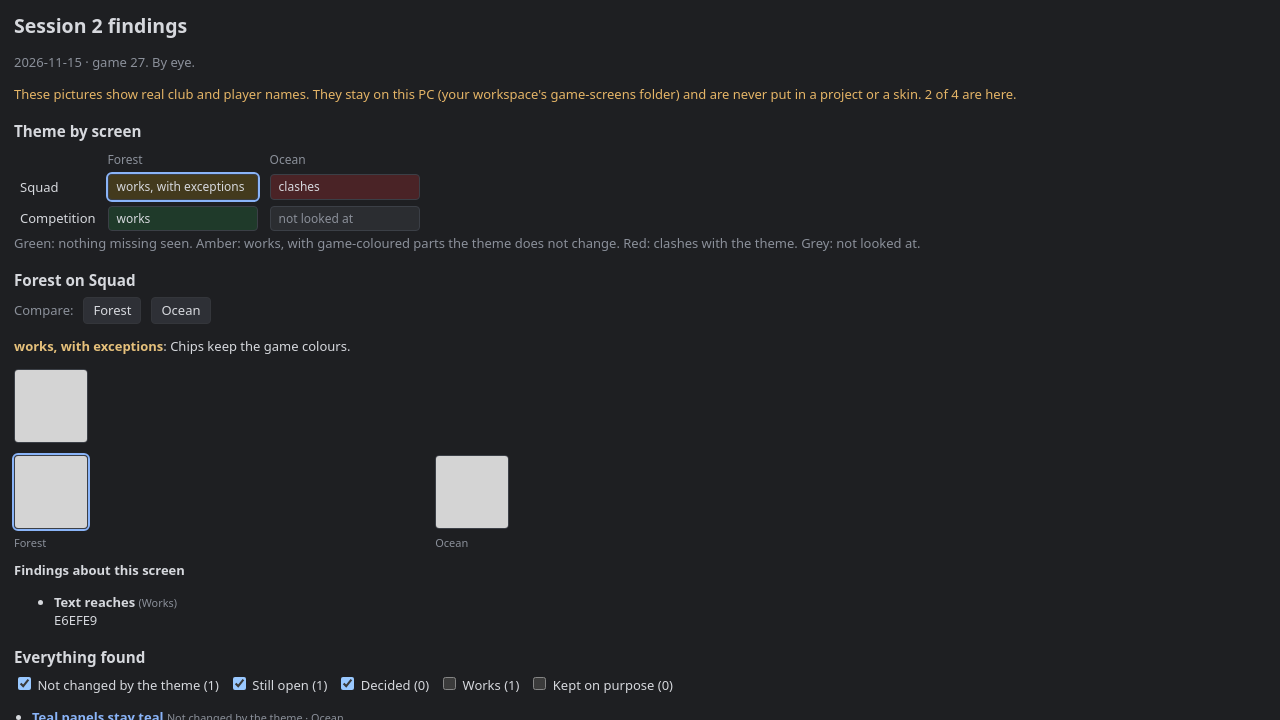
Test: Findings › the list of everything found can be filtered by kind, and a finding opens its screen
Expected: the heading "Session 2 findings" is shown, top-left (14, 12), bottom-right (187, 39)
Expected: the list with test id "fnd-list" shows "Teal panels stay teal", top-left (32, 708), bottom-right (164, 719)
Step 1. Click the checkbox labelled "Works (1)" → (450, 684), box top-left (443, 677), bottom-right (456, 690)
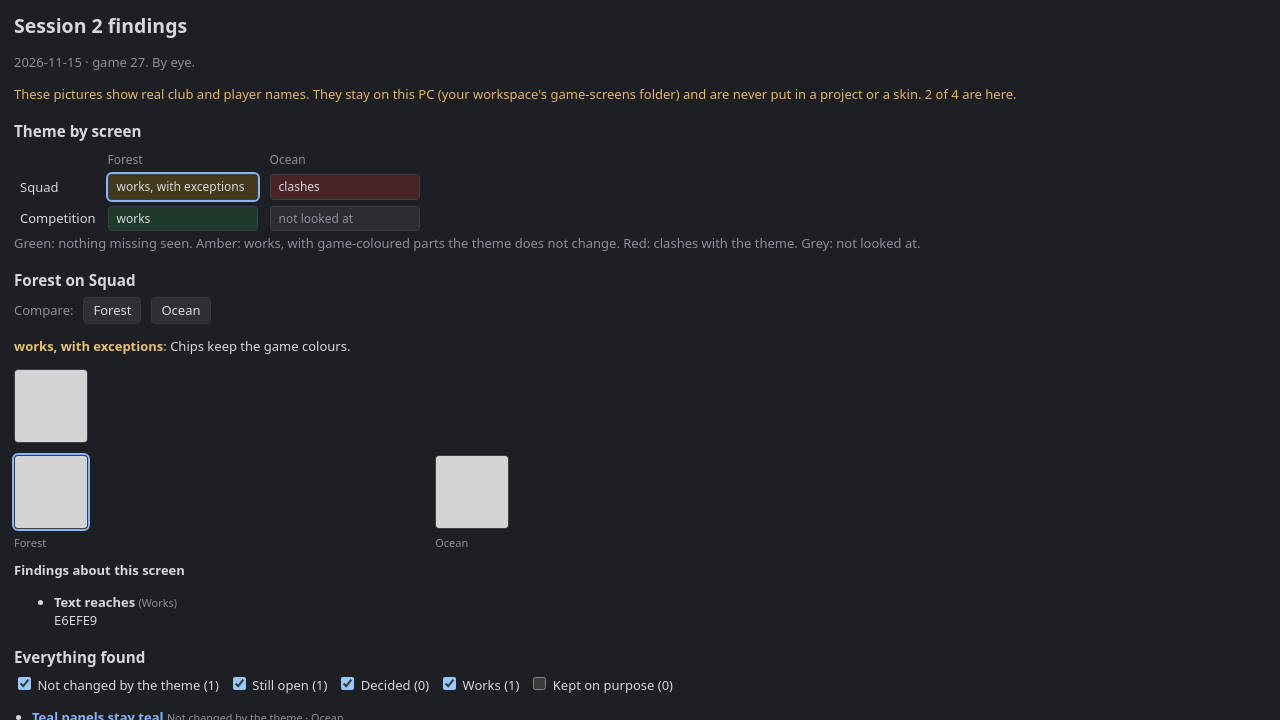
Step 2. Click the checkbox labelled "Not changed by the theme (1)" → (24, 684), box top-left (18, 677), bottom-right (31, 690)
(page scrolled)
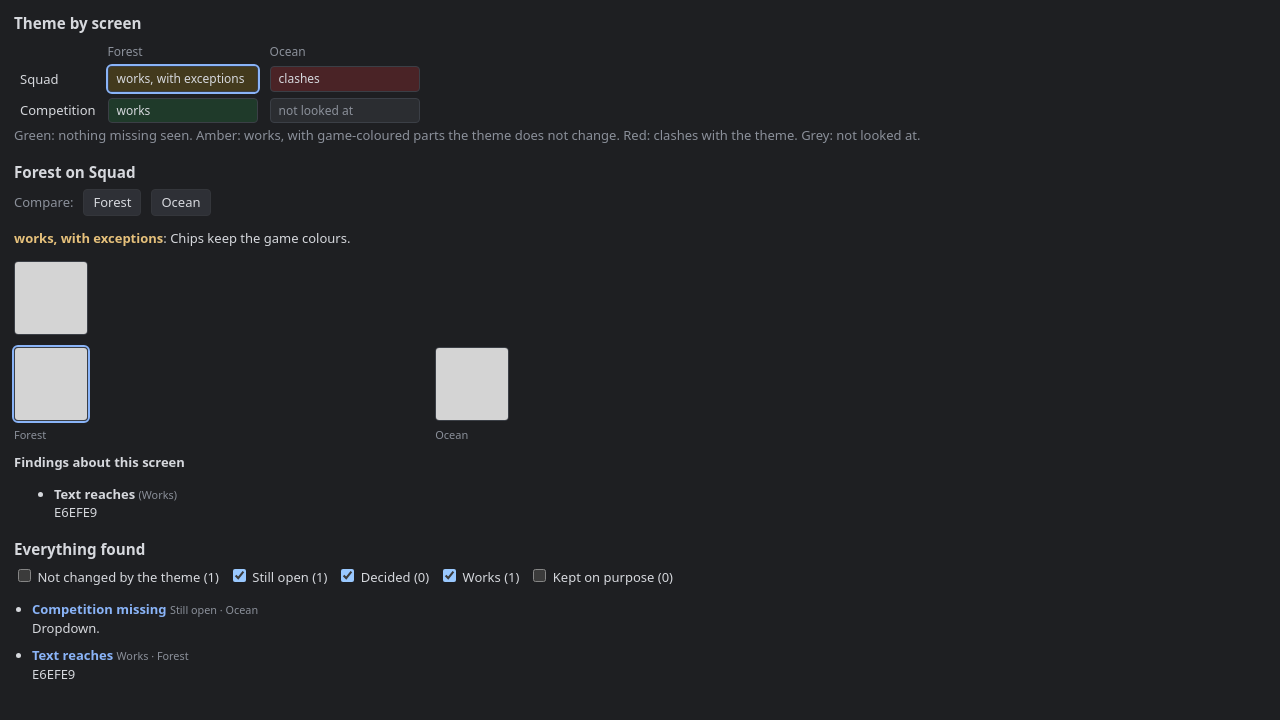
Step 3. Click the button "Competition missing" → (99, 610), box top-left (32, 600), bottom-right (167, 619)
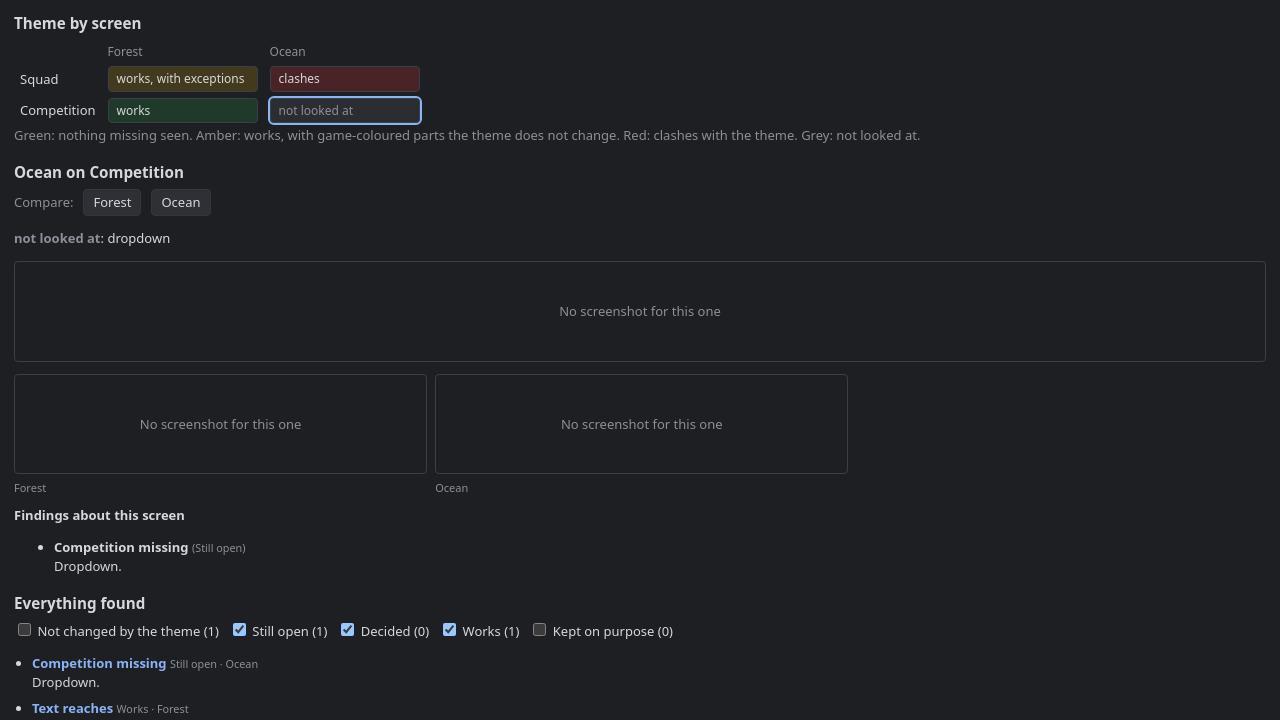
Result: the heading "Ocean on Competition" is shown at top-left (14, 162), bottom-right (184, 182)
